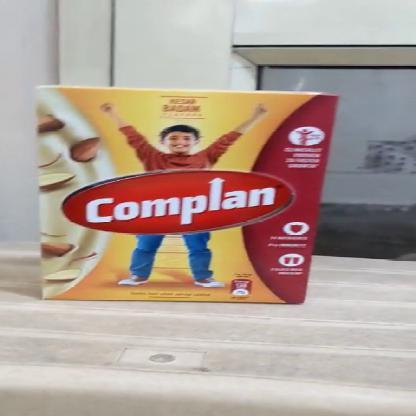Complan Kesar Badam: (27, 81, 348, 308)
